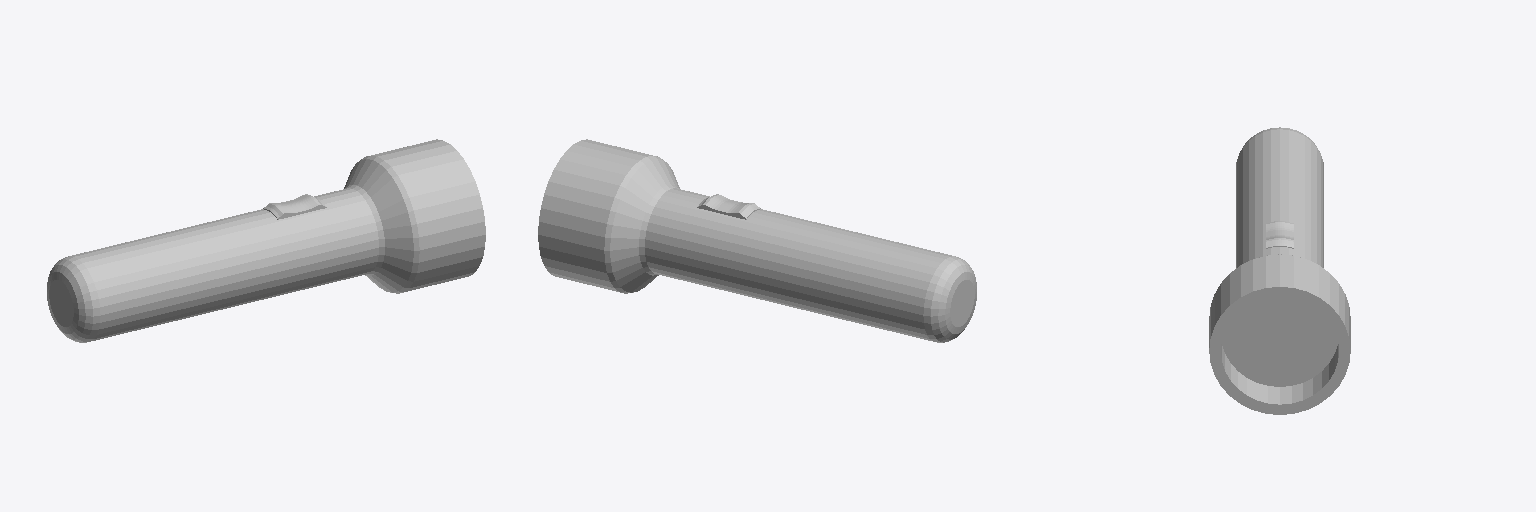
File: UV Light.obj
The picture shows the model from 3 angles: view 1: azimuth 30°, elevation 25°; view 2: azimuth 150°, elevation 25°; view 3: azimuth 270°, elevation 25°; orthographic projection.
Visible parts, largest first — view 1: UV_Torch; view 2: UV_Torch; view 3: UV_Torch.
Boxes of the visible parts, <box> form: UV_Torch: <box>47,139,485,342</box>; UV_Torch: <box>538,139,976,342</box>; UV_Torch: <box>1209,127,1350,414</box>.
Bounding box in the file's own units: 10.15 × 3.2 × 3.2.